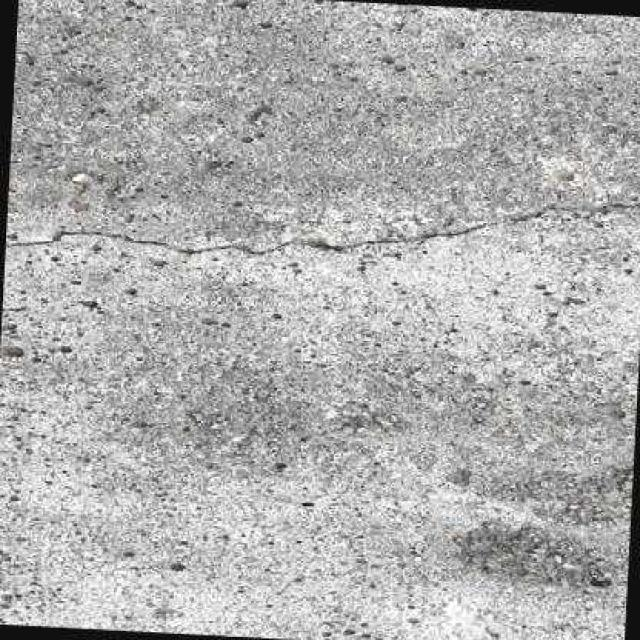D00: (3, 201, 640, 254)
